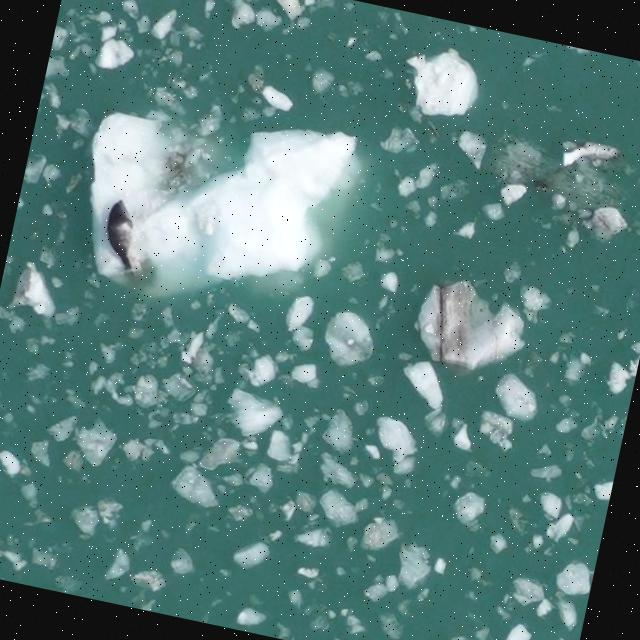seal: (104, 198, 135, 269)
